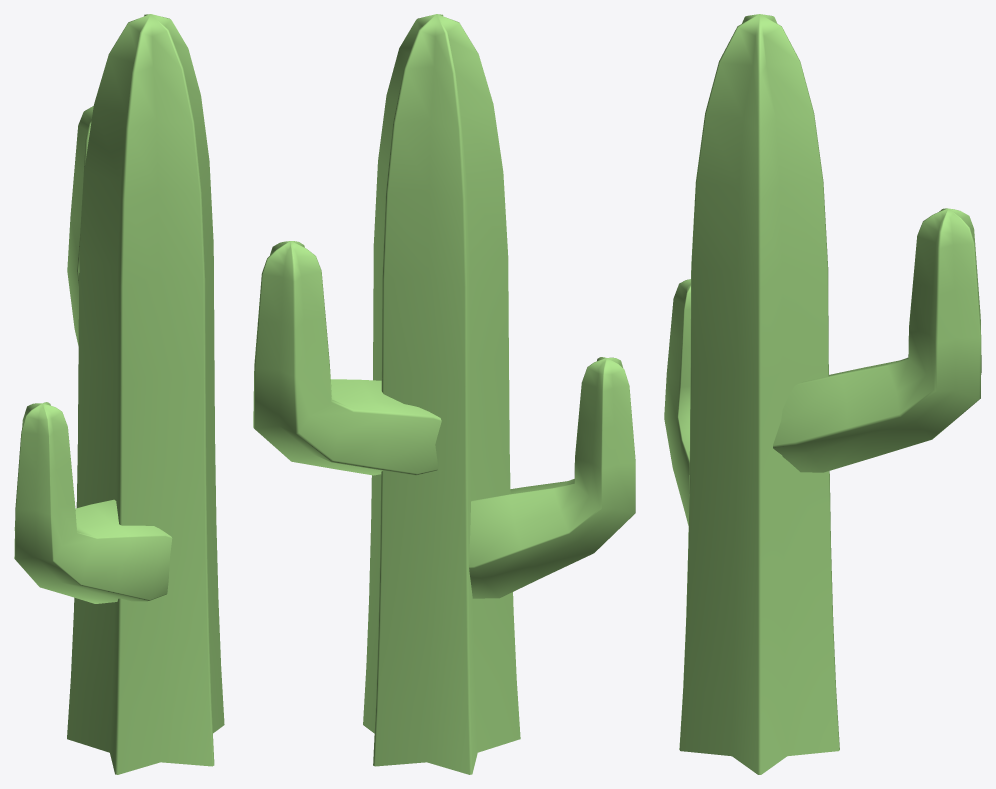
The model's file is cactus.fbx.
The picture shows the model from 3 angles, left to right: view 1: azimuth 30°, elevation 25°; view 2: azimuth 150°, elevation 25°; view 3: azimuth 270°, elevation 25°; orthographic projection.
Visible parts, largest first — view 1: cactus; view 2: cactus; view 3: cactus.
Boxes of the visible parts, x1,y1,x2,y2 form: cactus: [14, 14, 224, 774]; cactus: [253, 14, 635, 774]; cactus: [664, 14, 981, 774].
Bounding box in the file's own units: 79.65 × 218 × 86.26.
